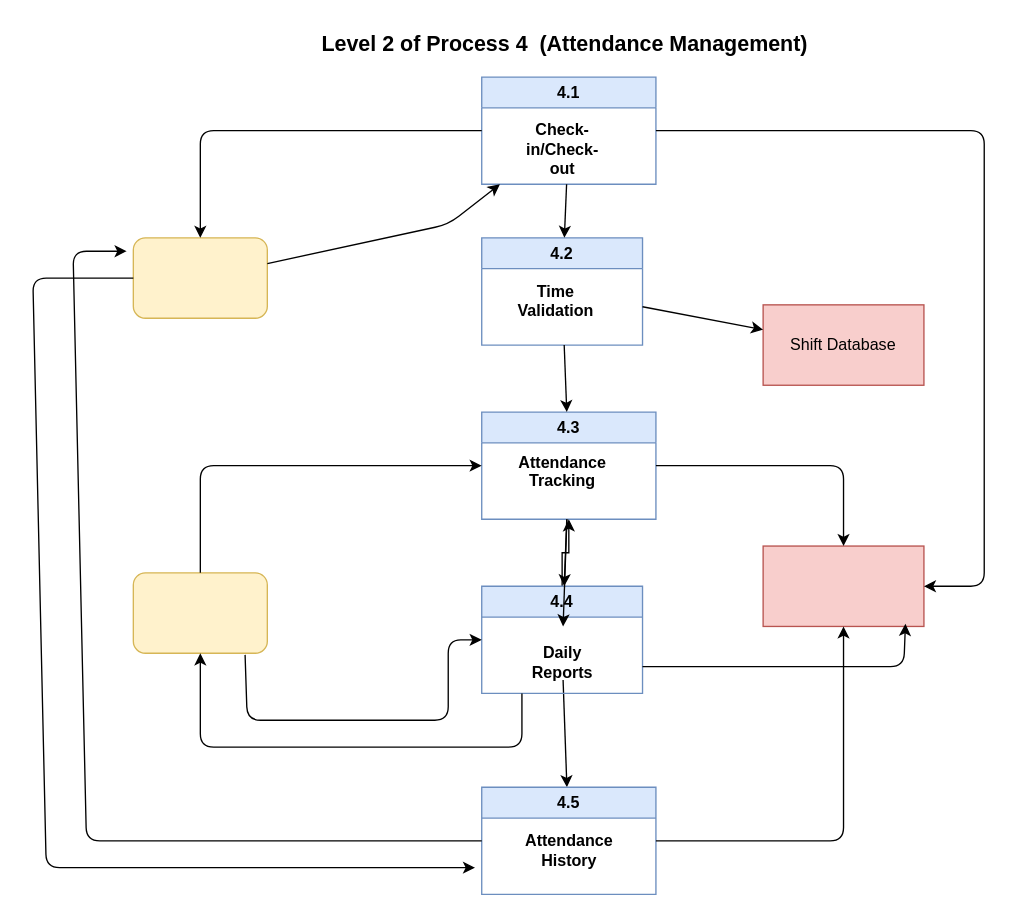
Some shapes in this 1018 by 918 pixel diagram are drawn without their labels. The centre of each missing label's shape, as x and y in pixels:
"Attendance Database" goes at [843,585].
"Employee" goes at [199,277].
"Manager" goes at [199,612].
